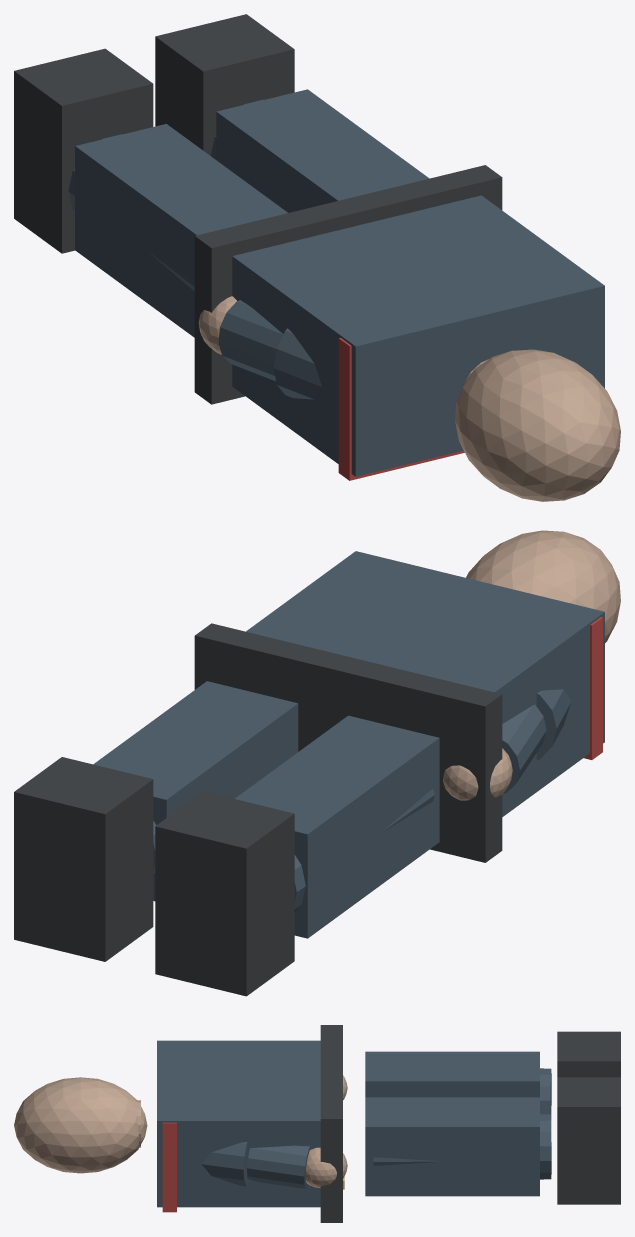
File: Femme_Station_SDIS37_V2.glb
3 views of the same model, one above another, from view 1: azimuth 30°, elevation 25°; view 2: azimuth 150°, elevation 25°; view 3: azimuth 270°, elevation 25° (orthographic). The views are drawn at different scales.
Parts seen in each view (by area): view 1: 06_Polo, 02_Pantalon_gauche, 09_Tete, 00_Botte_gauche, 05_Pantalon_droite, 16_Ceinture, 03_Botte_droite, 11_Avant_bras_gauche, 10_Bras_superieur_gauche, 07_Liseré_polo, 12_Main_gauche; view 2: 06_Polo, 16_Ceinture, 02_Pantalon_gauche, 00_Botte_gauche, 03_Botte_droite, 05_Pantalon_droite, 09_Tete, 11_Avant_bras_gauche, 07_Liseré_polo, 12_Main_gauche, 10_Bras_superieur_gauche, 01_Jambe_gauche; view 3: 06_Polo, 05_Pantalon_droite, 09_Tete, 02_Pantalon_gauche, 03_Botte_droite, 16_Ceinture, 00_Botte_gauche, 14_Avant_bras_droite, 13_Bras_superieur_droite, 07_Liseré_polo, 04_Jambe_droite, 15_Main_droite (+1 smaller).
Part boxes in pixels (x1,y1,x2,y2): 06_Polo: (232, 195, 604, 476); 02_Pantalon_gauche: (75, 124, 287, 337); 09_Tete: (455, 349, 620, 501); 00_Botte_gauche: (14, 48, 153, 253); 05_Pantalon_droite: (216, 89, 429, 212); 16_Ceinture: (194, 165, 502, 404); 03_Botte_droite: (155, 14, 294, 155); 11_Avant_bras_gauche: (218, 300, 283, 381); 10_Bras_superieur_gauche: (273, 328, 322, 399); 07_Liseré_polo: (338, 338, 464, 480); 12_Main_gauche: (198, 296, 236, 354); 06_Polo: (246, 551, 604, 816); 16_Ceinture: (194, 623, 502, 862); 02_Pantalon_gauche: (234, 715, 439, 938); 00_Botte_gauche: (155, 791, 294, 996); 03_Botte_droite: (14, 757, 153, 961); 05_Pantalon_droite: (93, 681, 298, 901); 09_Tete: (466, 530, 620, 642); 11_Avant_bras_gauche: (502, 704, 546, 793); 07_Liseré_polo: (584, 617, 602, 759); 12_Main_gauche: (443, 748, 512, 800); 10_Bras_superieur_gauche: (536, 689, 571, 760); 01_Jambe_gauche: (294, 788, 434, 911); 06_Polo: (157, 1040, 320, 1207); 05_Pantalon_droite: (365, 1097, 539, 1196); 09_Tete: (14, 1077, 147, 1173); 02_Pantalon_gauche: (365, 1051, 539, 1097); 03_Botte_droite: (557, 1077, 620, 1204); 16_Ceinture: (320, 1025, 342, 1222); 00_Botte_gauche: (557, 1031, 620, 1077); 14_Avant_bras_droite: (247, 1145, 309, 1188); 13_Bras_superieur_droite: (201, 1142, 247, 1186); 07_Liseré_polo: (162, 1122, 176, 1212); 04_Jambe_droite: (373, 1114, 551, 1179); 15_Main_droite: (305, 1147, 347, 1187).
Bounding box in the file's own units: 0.73 × 0.395 × 1.91.
